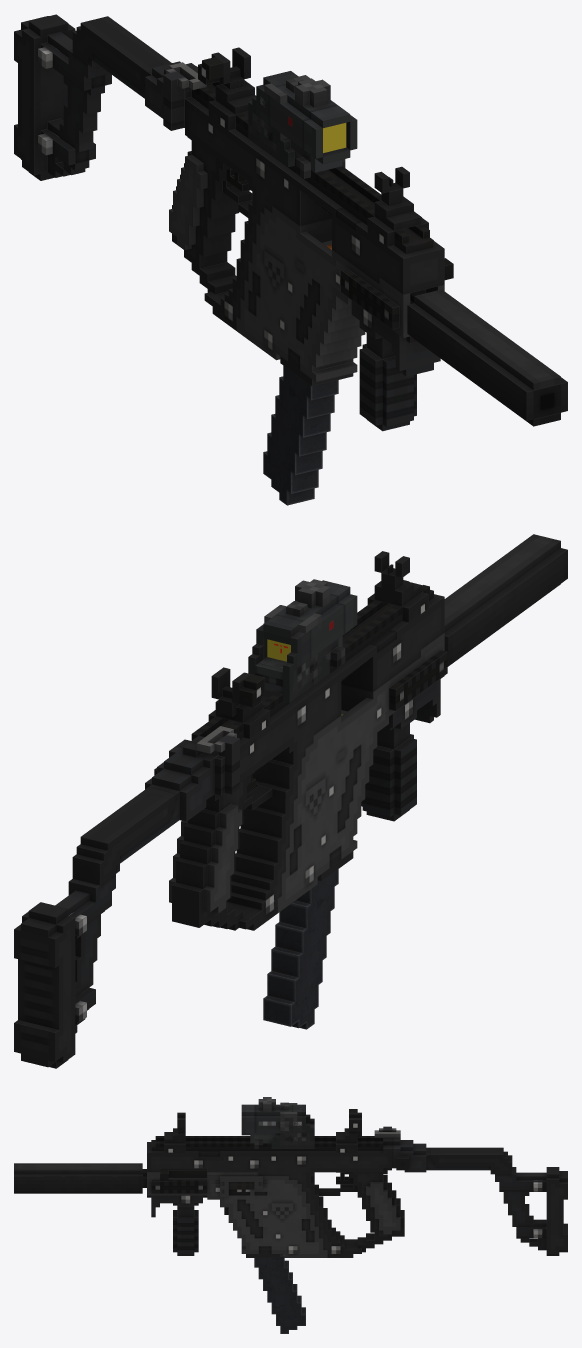
File: RD_KRISS.glb
The picture shows the model from 3 angles, top to bottom: view 1: azimuth 30°, elevation 25°; view 2: azimuth 150°, elevation 25°; view 3: azimuth 270°, elevation 25°; orthographic projection. The views are drawn at different scales.
Visible parts, largest first — view 1: KRISS_VECTOR, SILENCER_6X6, KRISS_VECTOR_CLIP2, SCOPE_TASCO, KRISS_VECTOR_GRIP, KRISS_VECTOR_SCOPE, SCOPE_EOTECH, SCOPE_HOLOSUN; view 2: KRISS_VECTOR, SILENCER_6X6, KRISS_VECTOR_CLIP2, SCOPE_TASCO, KRISS_VECTOR_GRIP, KRISS_VECTOR_SCOPE, SCOPE_EOTECH, SCOPE_HOLOSUN; view 3: KRISS_VECTOR, SILENCER_6X6, KRISS_VECTOR_CLIP2, KRISS_VECTOR_GRIP, SCOPE_TASCO, KRISS_VECTOR_SCOPE, SCOPE_EOTECH, SCOPE_HOLOSUN, KRISS_VECTOR_BOLT.
Boxes of the visible parts, x1,y1,x2,y2 form: KRISS_VECTOR: [14, 14, 444, 381]; SILENCER_6X6: [407, 289, 567, 426]; KRISS_VECTOR_CLIP2: [263, 365, 338, 505]; SCOPE_TASCO: [256, 71, 357, 178]; KRISS_VECTOR_GRIP: [351, 300, 440, 431]; KRISS_VECTOR_SCOPE: [198, 47, 428, 246]; SCOPE_EOTECH: [248, 94, 342, 172]; SCOPE_HOLOSUN: [248, 75, 310, 160]; KRISS_VECTOR: [14, 580, 447, 1068]; SILENCER_6X6: [444, 534, 567, 666]; KRISS_VECTOR_CLIP2: [263, 869, 338, 1029]; SCOPE_TASCO: [256, 579, 357, 685]; KRISS_VECTOR_GRIP: [361, 679, 440, 821]; KRISS_VECTOR_SCOPE: [208, 551, 428, 738]; SCOPE_EOTECH: [248, 631, 342, 702]; SCOPE_HOLOSUN: [256, 605, 321, 701]; KRISS_VECTOR: [142, 1126, 567, 1257]; SILENCER_6X6: [14, 1163, 142, 1193]; KRISS_VECTOR_CLIP2: [254, 1254, 305, 1333]; KRISS_VECTOR_GRIP: [151, 1195, 202, 1255]; SCOPE_TASCO: [241, 1097, 305, 1148]; KRISS_VECTOR_SCOPE: [164, 1109, 361, 1152]; SCOPE_EOTECH: [250, 1114, 314, 1148]; SCOPE_HOLOSUN: [280, 1103, 314, 1148]; KRISS_VECTOR_BOLT: [160, 1168, 207, 1181].
Bounding box in the file's own units: 0.1082 × 0.5806 × 1.27.
Materials: 9 (9 with a texture image).
